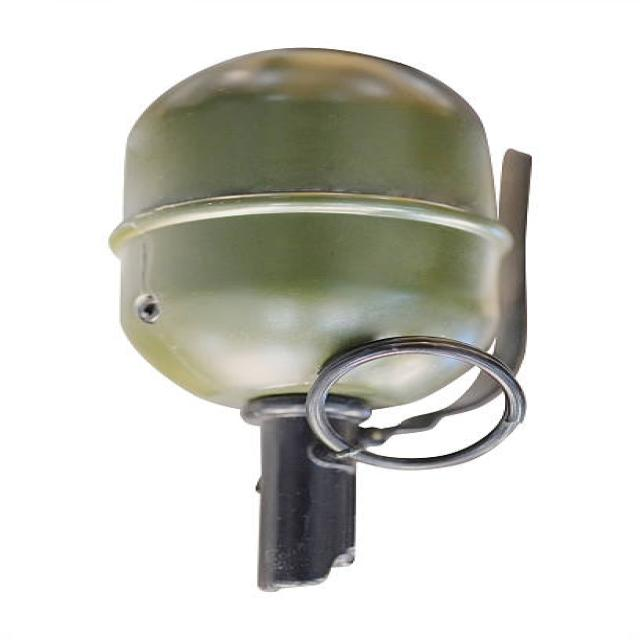grenade: (95, 38, 556, 599)
